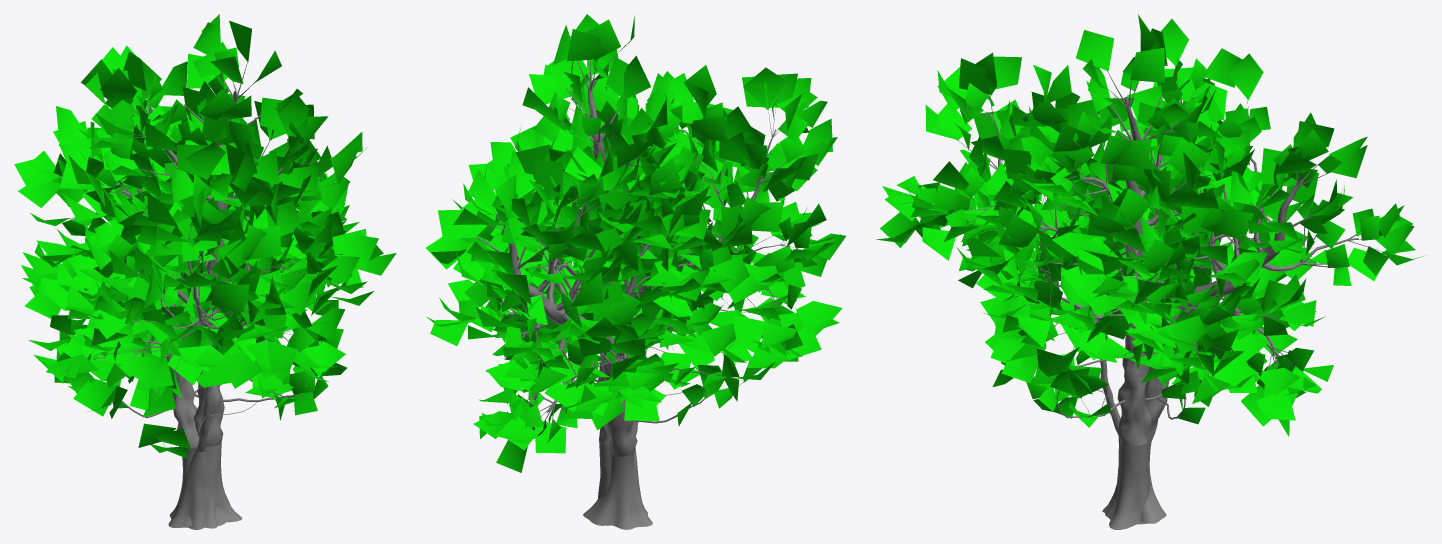
File: SM_MapleTreeLast.fbx
The picture shows the model from 3 angles, left to right: view 1: azimuth 30°, elevation 25°; view 2: azimuth 150°, elevation 25°; view 3: azimuth 270°, elevation 25°; orthographic projection. The views are drawn at different scales.
Visible parts, largest first — view 1: SM_MapleTree_LOD0; view 2: SM_MapleTree_LOD0; view 3: SM_MapleTree_LOD0.
Part boxes in pixels (x1,y1,x2,y2): SM_MapleTree_LOD0: [14, 14, 396, 529]; SM_MapleTree_LOD0: [426, 14, 845, 529]; SM_MapleTree_LOD0: [876, 14, 1423, 529].
Size of the model in its own units: 1204 by 1613 by 1603.
